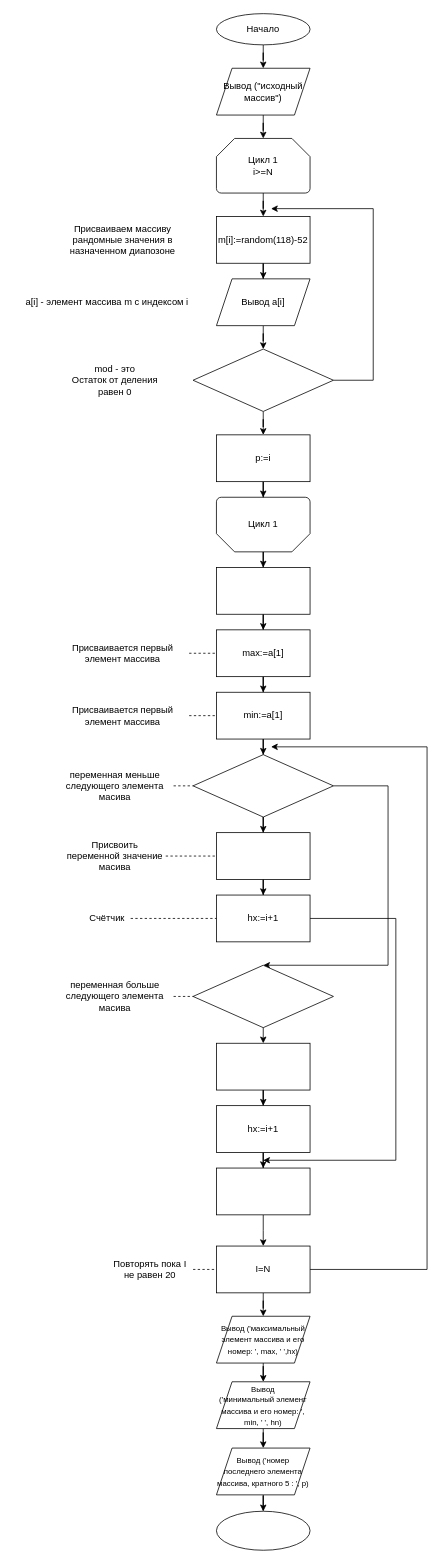
Some shapes in this 447 by 1564 pixel diagram are drawn without their labels. The box of each missing label's shape, as (x1, y1, x2, y2) in pixels:
a[i] mod 5=0: (192, 348, 333, 411)
i:=1: (216, 567, 310, 614)
i:=i+1: (216, 1167, 310, 1215)
max:=a[i+1]: (216, 832, 310, 879)
max<a[i+1]: (192, 754, 333, 817)
min:=a[i+1]: (216, 1042, 310, 1090)
min>a[i+1]: (192, 964, 333, 1028)
Конец: (216, 1510, 310, 1550)
